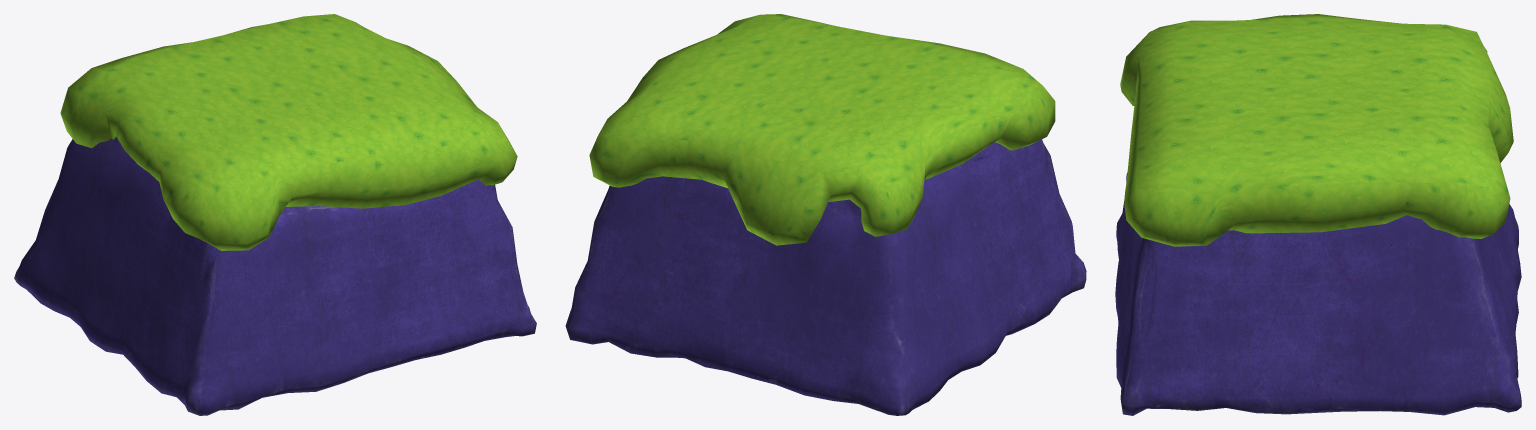
The model's file is Montaña2_Texturizada.fbx.
3 renders of one model, left to right at view 1: azimuth 30°, elevation 25°; view 2: azimuth 150°, elevation 25°; view 3: azimuth 270°, elevation 25°, orthographic. The views are drawn at different scales.
Visible parts, largest first — view 1: Roca2Lowpoly.001; view 2: Roca2Lowpoly.001; view 3: Roca2Lowpoly.001.
Boxes of the visible parts, bbox=[...] form: Roca2Lowpoly.001: bbox=[14, 14, 536, 415]; Roca2Lowpoly.001: bbox=[565, 14, 1086, 415]; Roca2Lowpoly.001: bbox=[1115, 14, 1521, 415].
Size of the model in its own units: 8035 by 5156 by 7492.
2 materials, 2 textured.
